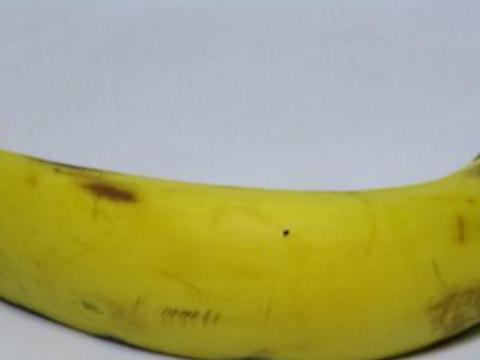freshripe: (0, 132, 479, 359)
